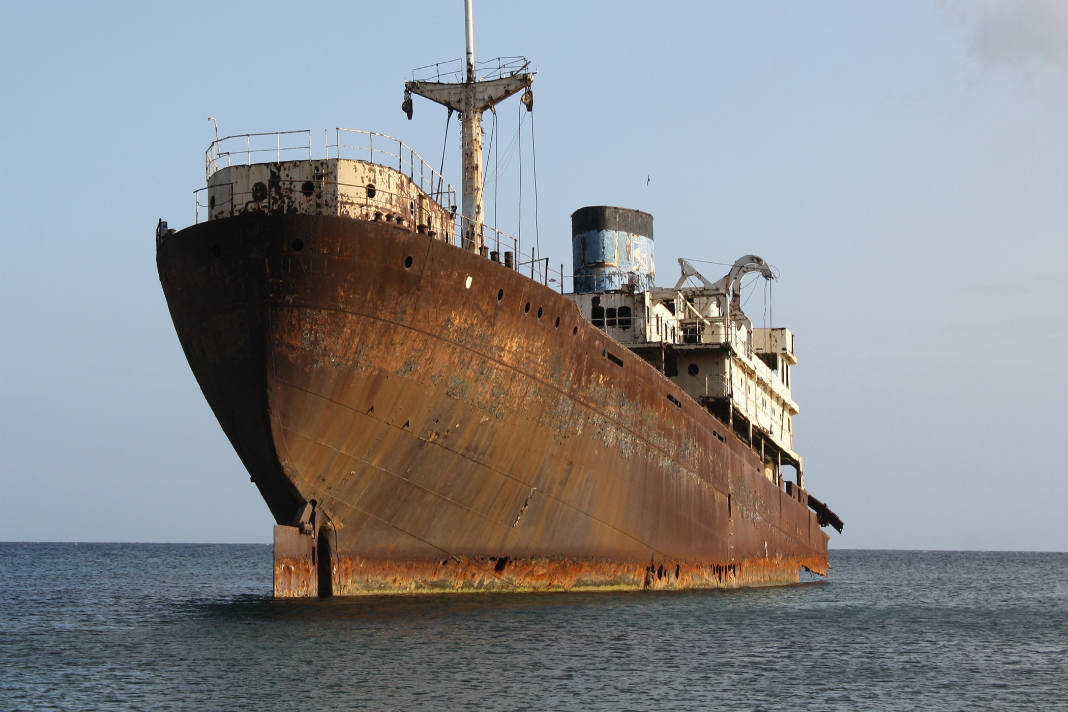rust: (281, 527, 822, 581), (316, 220, 552, 330)
